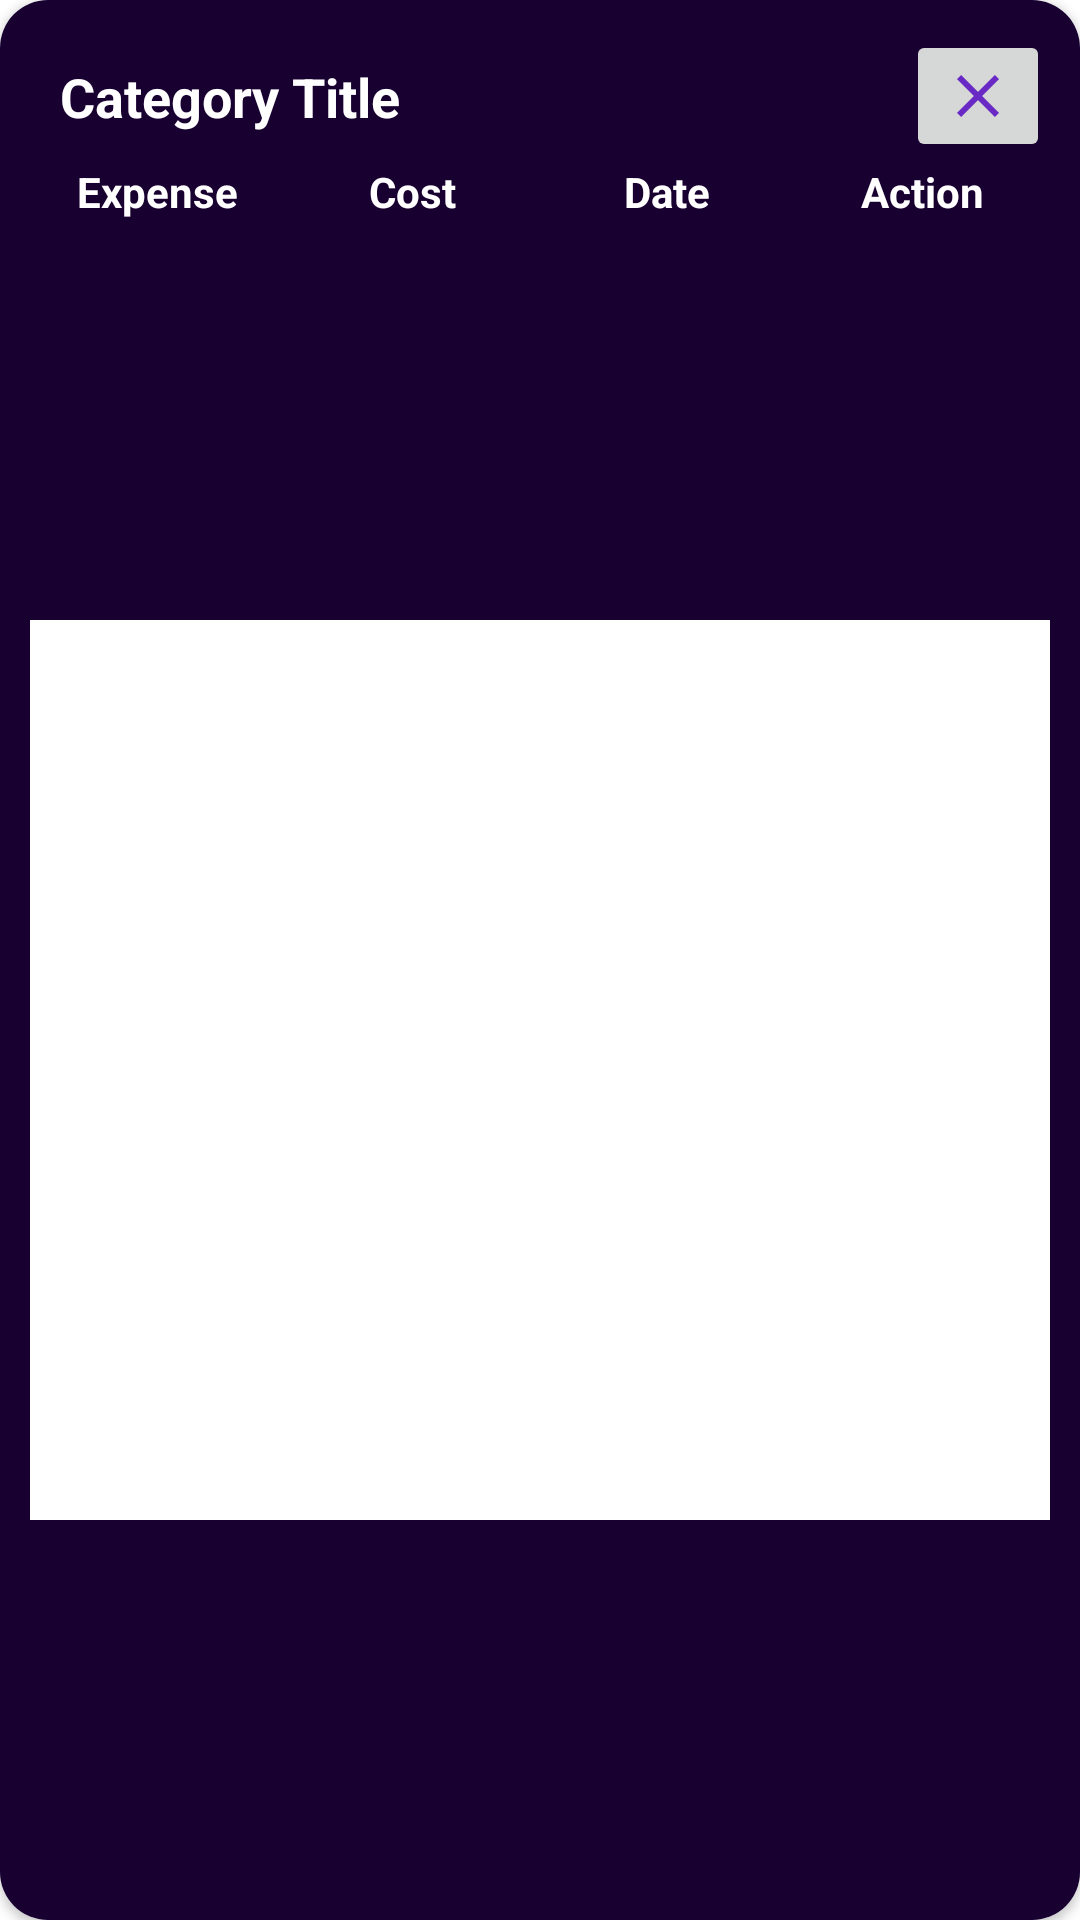

Screen size 1080×1920. Icon name, then its box in pixels as (x1, y1, x2, y2):
close: (918, 48, 1038, 144)
